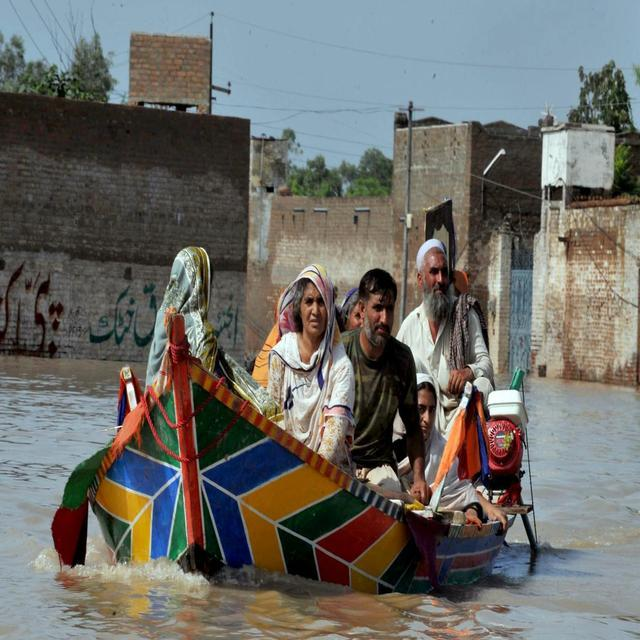Person-RiskLevel3: (140, 234, 515, 532)
